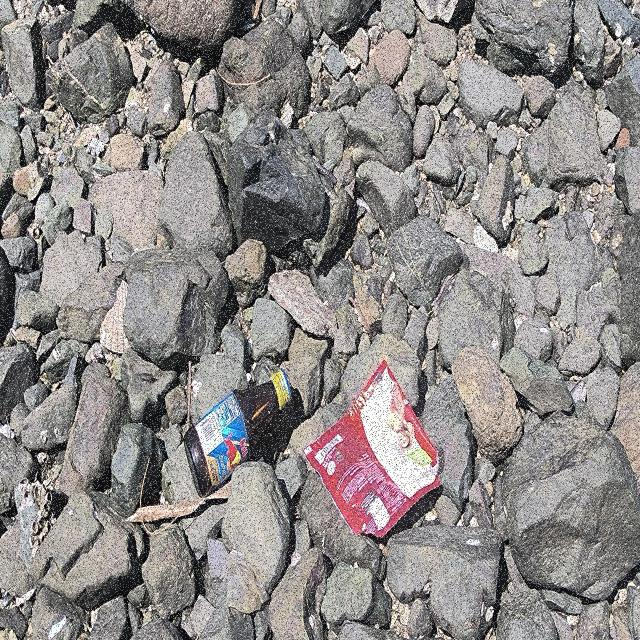glass_waste: (184, 368, 293, 500)
plastic_waste: (304, 359, 445, 540)
